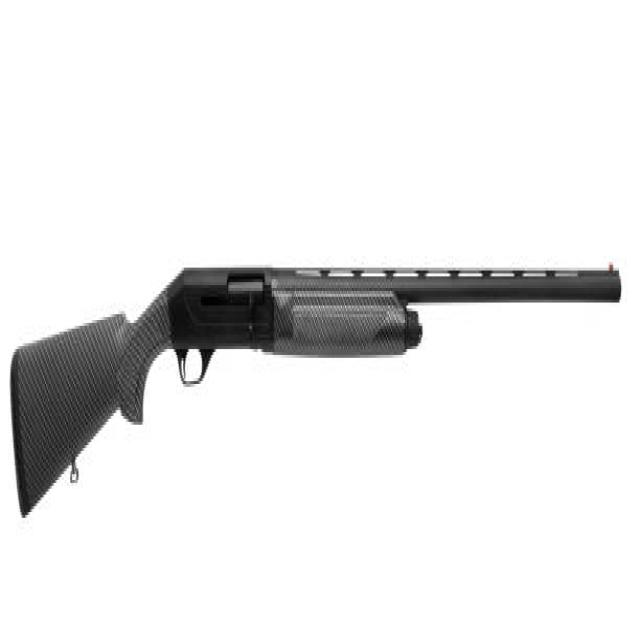rifle: (8, 239, 625, 523)
